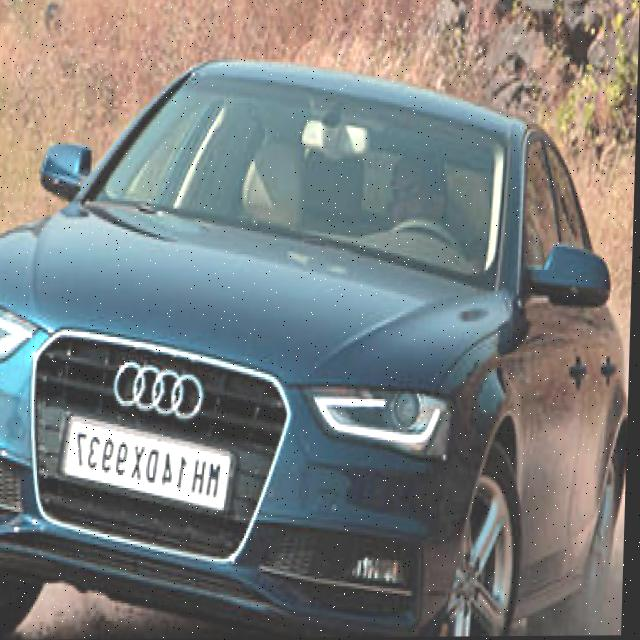plate: (62, 415, 238, 517)
